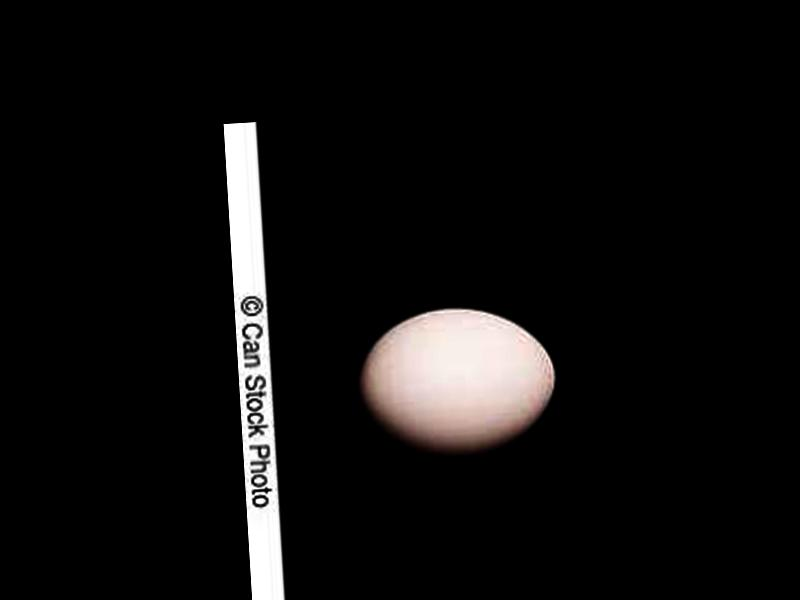Eggs: (351, 302, 559, 460)
